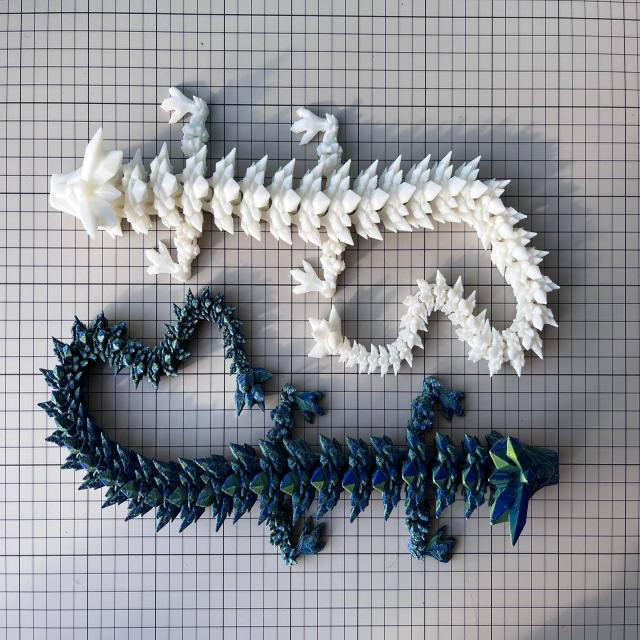Without deffect: (43, 86, 578, 581)
